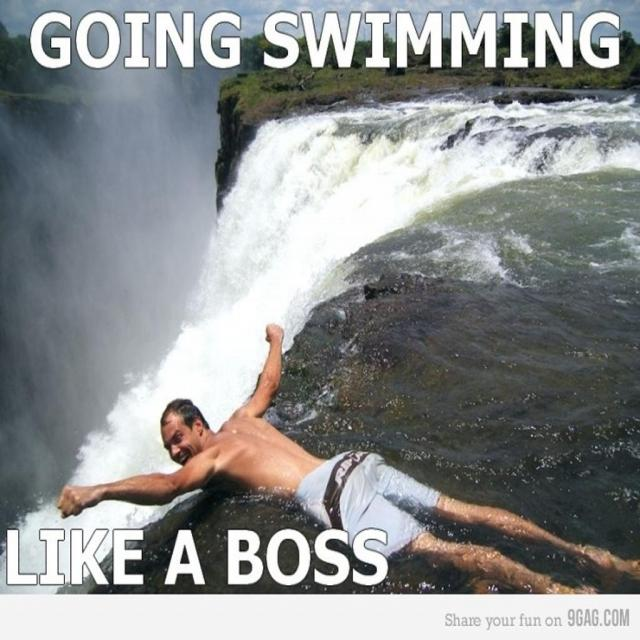nomask: (162, 416, 200, 469)
